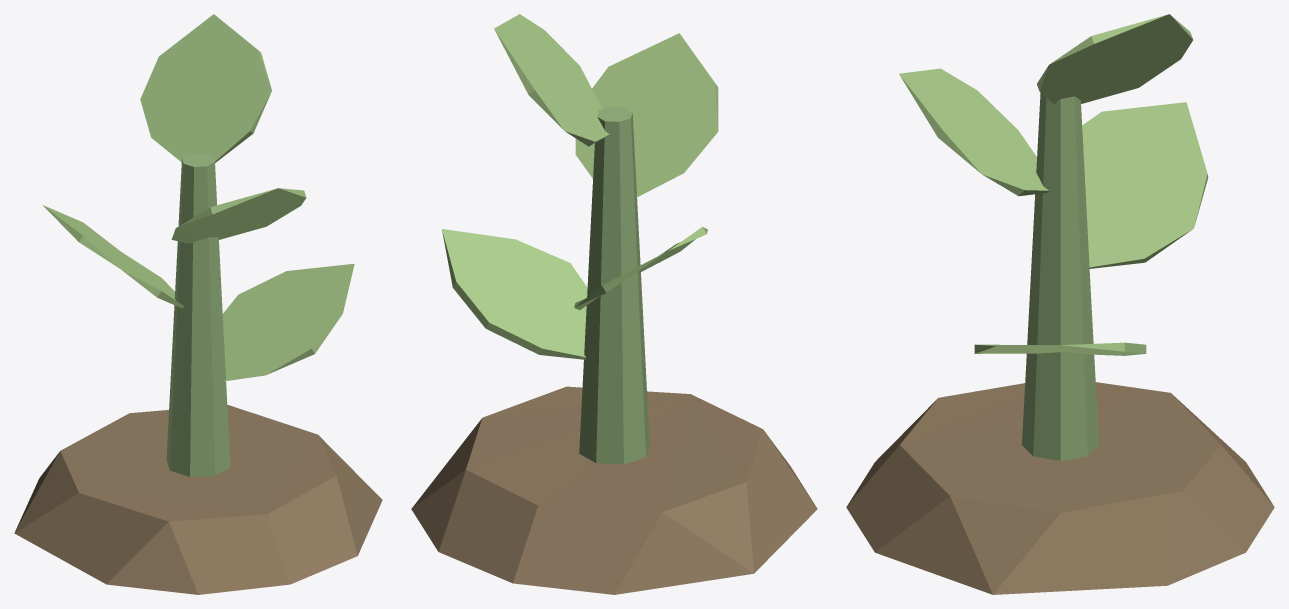
The model's file is 33-Agricultura_cultivo_creciendo.glb.
3 renders of one model, left to right at view 1: azimuth 30°, elevation 25°; view 2: azimuth 150°, elevation 25°; view 3: azimuth 270°, elevation 25°, orthographic. The views are drawn at different scales.
Parts seen in each view (by area): view 1: SM_Cultivo_M_Cultivo_Tierra, SM_Cultivo_M_Cultivo_Hoja, SM_Cultivo_M_Cultivo_Tallo; view 2: SM_Cultivo_M_Cultivo_Tierra, SM_Cultivo_M_Cultivo_Hoja, SM_Cultivo_M_Cultivo_Tallo; view 3: SM_Cultivo_M_Cultivo_Tierra, SM_Cultivo_M_Cultivo_Hoja, SM_Cultivo_M_Cultivo_Tallo.
Boxes of the visible parts, x1,y1,x2,y2 form: SM_Cultivo_M_Cultivo_Tierra: [14, 405, 382, 594]; SM_Cultivo_M_Cultivo_Hoja: [43, 14, 354, 381]; SM_Cultivo_M_Cultivo_Tallo: [166, 153, 230, 476]; SM_Cultivo_M_Cultivo_Tierra: [411, 386, 817, 594]; SM_Cultivo_M_Cultivo_Hoja: [442, 14, 718, 359]; SM_Cultivo_M_Cultivo_Tallo: [579, 106, 649, 464]; SM_Cultivo_M_Cultivo_Tierra: [846, 382, 1274, 594]; SM_Cultivo_M_Cultivo_Hoja: [899, 14, 1208, 355]; SM_Cultivo_M_Cultivo_Tallo: [1022, 93, 1098, 460].
Bounding box in the file's own units: 0.2738 × 0.3812 × 0.28.
